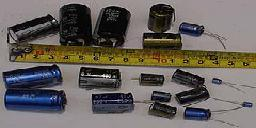Electrolytic-Capacitor: (3, 85, 73, 115), (93, 3, 137, 47), (6, 14, 64, 45), (60, 4, 94, 50), (184, 105, 247, 128), (79, 65, 125, 92), (178, 22, 228, 45), (89, 91, 144, 111), (145, 1, 177, 35), (212, 77, 254, 95), (175, 88, 211, 107), (146, 101, 180, 121), (172, 68, 209, 85), (131, 72, 173, 85), (151, 89, 172, 101), (240, 101, 254, 113)
